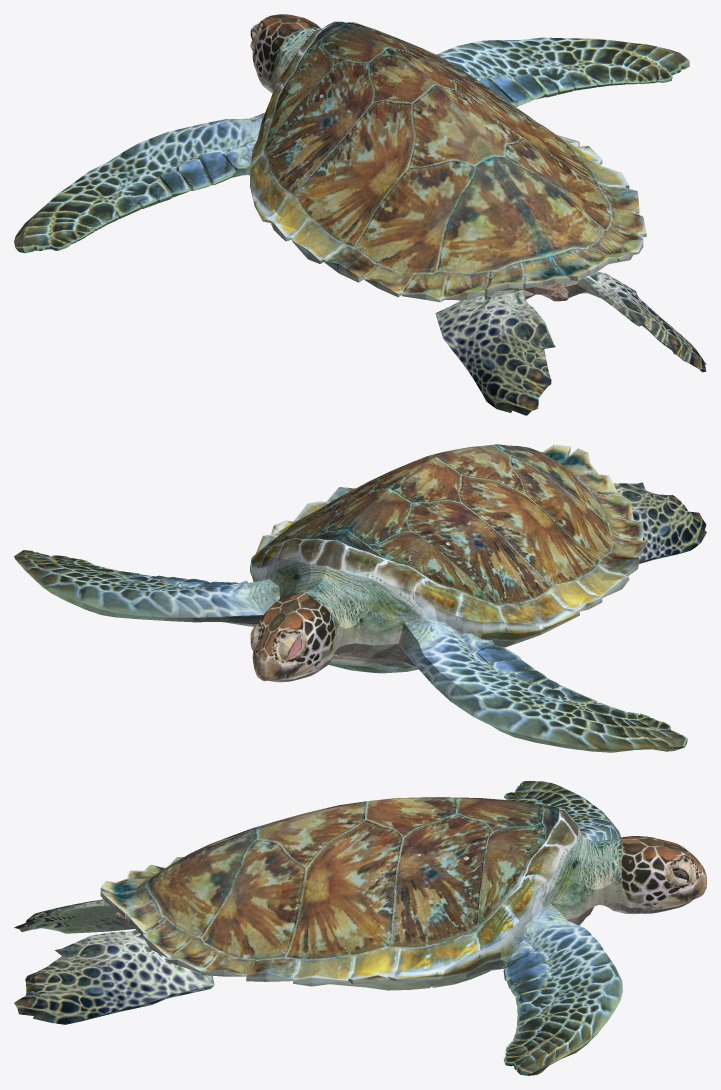
File: frame_31.obj
The picture shows the model from 3 angles, top to bottom: view 1: azimuth 30°, elevation 25°; view 2: azimuth 150°, elevation 25°; view 3: azimuth 270°, elevation 25°; orthographic projection. The views are drawn at different scales.
Parts seen in each view (by area): view 1: Turtle GEO Turtle; view 2: Turtle GEO Turtle; view 3: Turtle GEO Turtle.
Part boxes in pixels (x1=…): Turtle GEO Turtle: x1=14, y1=14, x2=706, y2=415; Turtle GEO Turtle: x1=14, y1=444, x2=706, y2=752; Turtle GEO Turtle: x1=14, y1=781, x2=706, y2=1075.
Size of the model in its own units: 108 by 28.92 by 100.
Materials: 1 (1 with a texture image).
